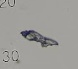microplastic: (20, 29, 58, 47)
